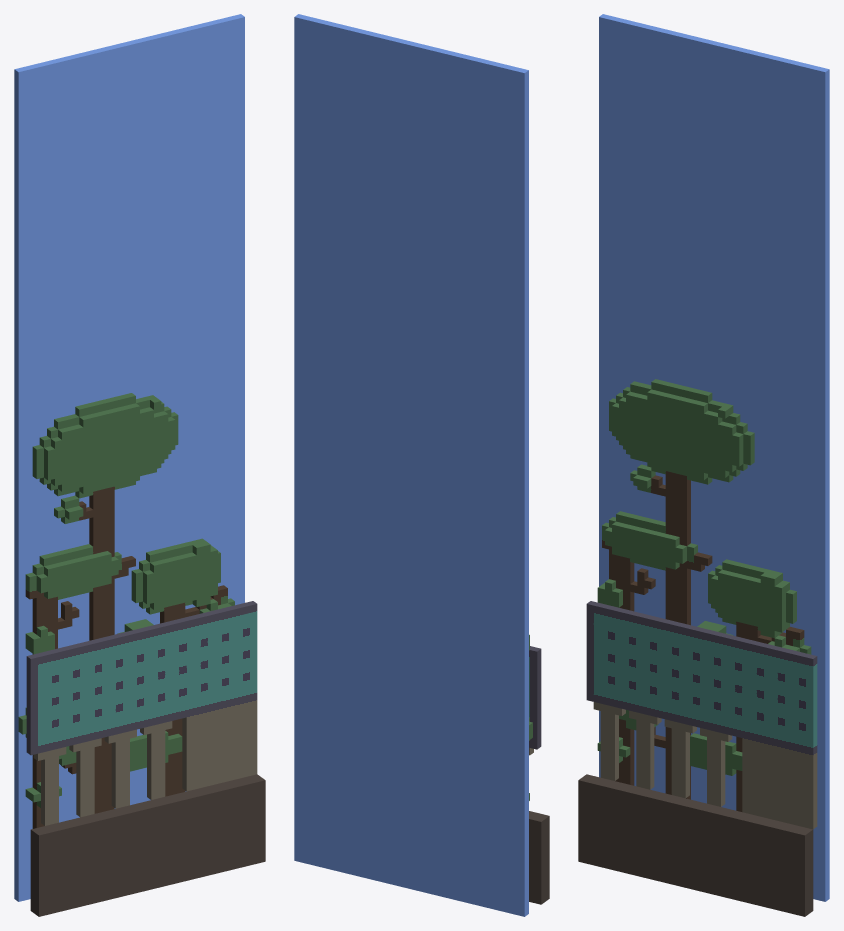
The model's file is scene_tue.glb.
3 views of the same model, side by side, from view 1: azimuth 30°, elevation 25°; view 2: azimuth 150°, elevation 25°; view 3: azimuth 330°, elevation 25° (orthographic).
Visible parts, largest first — view 1: scene_tue_27, scene_tue_26, scene_tue_25; view 2: scene_tue_27, scene_tue_26; view 3: scene_tue_27, scene_tue_26, scene_tue_25.
Boxes of the visible parts, box(x1,y1,x2,y2) form: scene_tue_27: box(14, 14, 244, 901); scene_tue_26: box(26, 601, 265, 916); scene_tue_25: box(18, 393, 234, 828); scene_tue_27: box(294, 14, 528, 916); scene_tue_26: box(529, 646, 549, 904); scene_tue_27: box(599, 14, 829, 901); scene_tue_26: box(578, 601, 817, 916); scene_tue_25: box(597, 379, 811, 811).
Size of the model in its own units: 3.2 by 11.2 by 0.6.
Materials: 1 (1 with a texture image).
